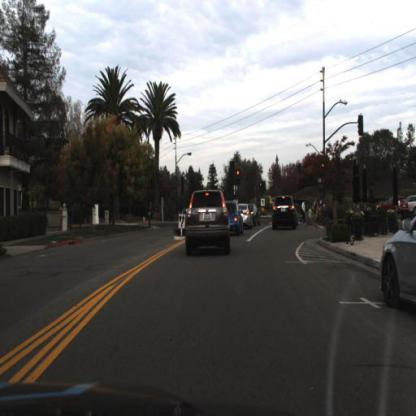car: (380, 211, 416, 317), (185, 190, 231, 250), (271, 196, 298, 228), (376, 195, 410, 217), (225, 201, 243, 233), (236, 203, 252, 230)
pedestrian: (300, 200, 307, 224), (308, 207, 315, 227)
trafficLight-Red: (319, 160, 328, 183), (235, 169, 243, 185)
